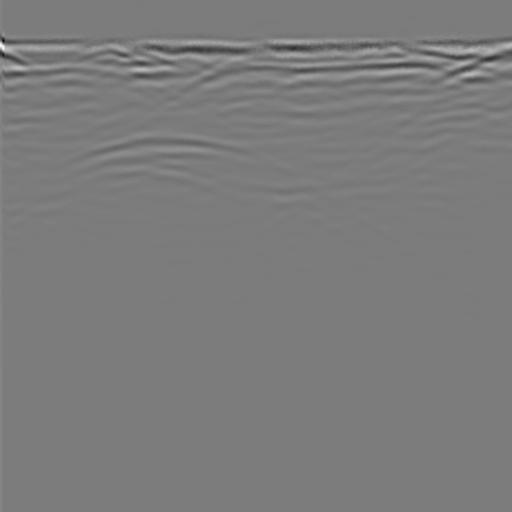hyperbola: (32, 123, 318, 254)
